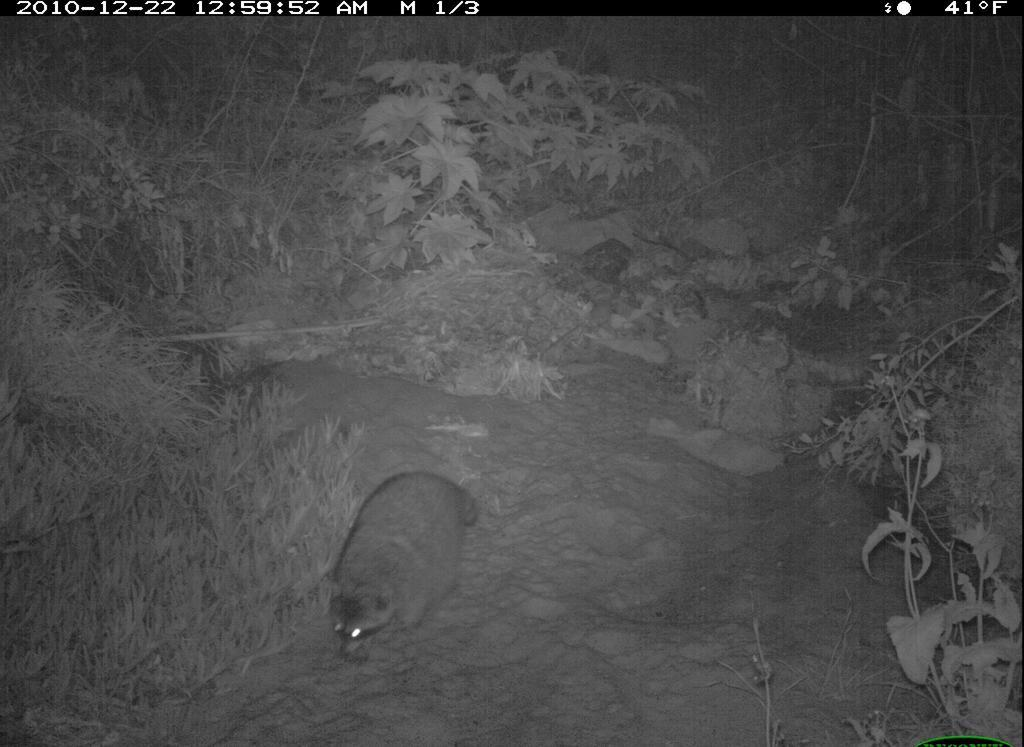raccoon: (317, 463, 486, 669)
